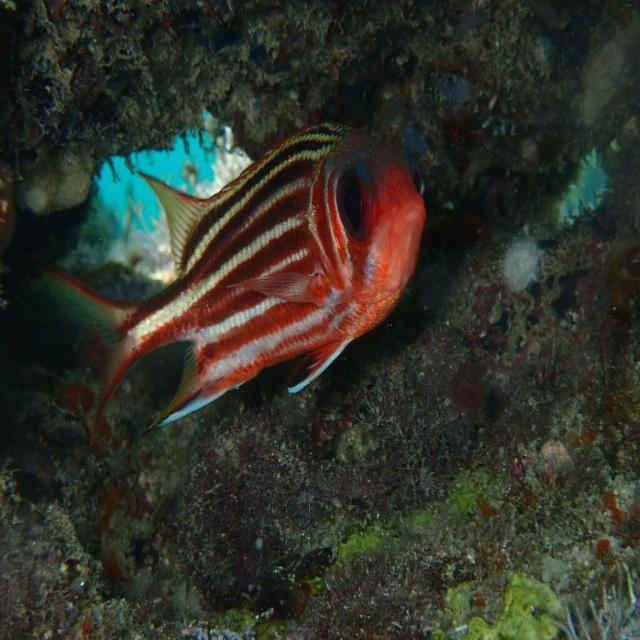Asker Baligi: (24, 104, 445, 462)
